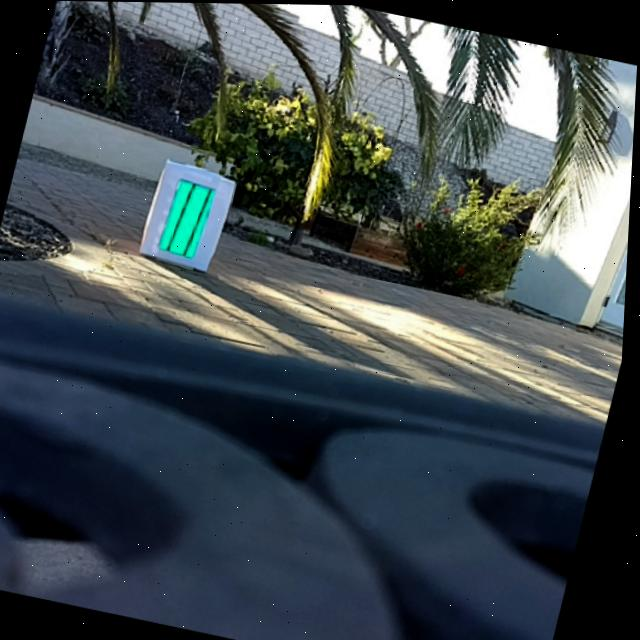led: (158, 175, 220, 261)
